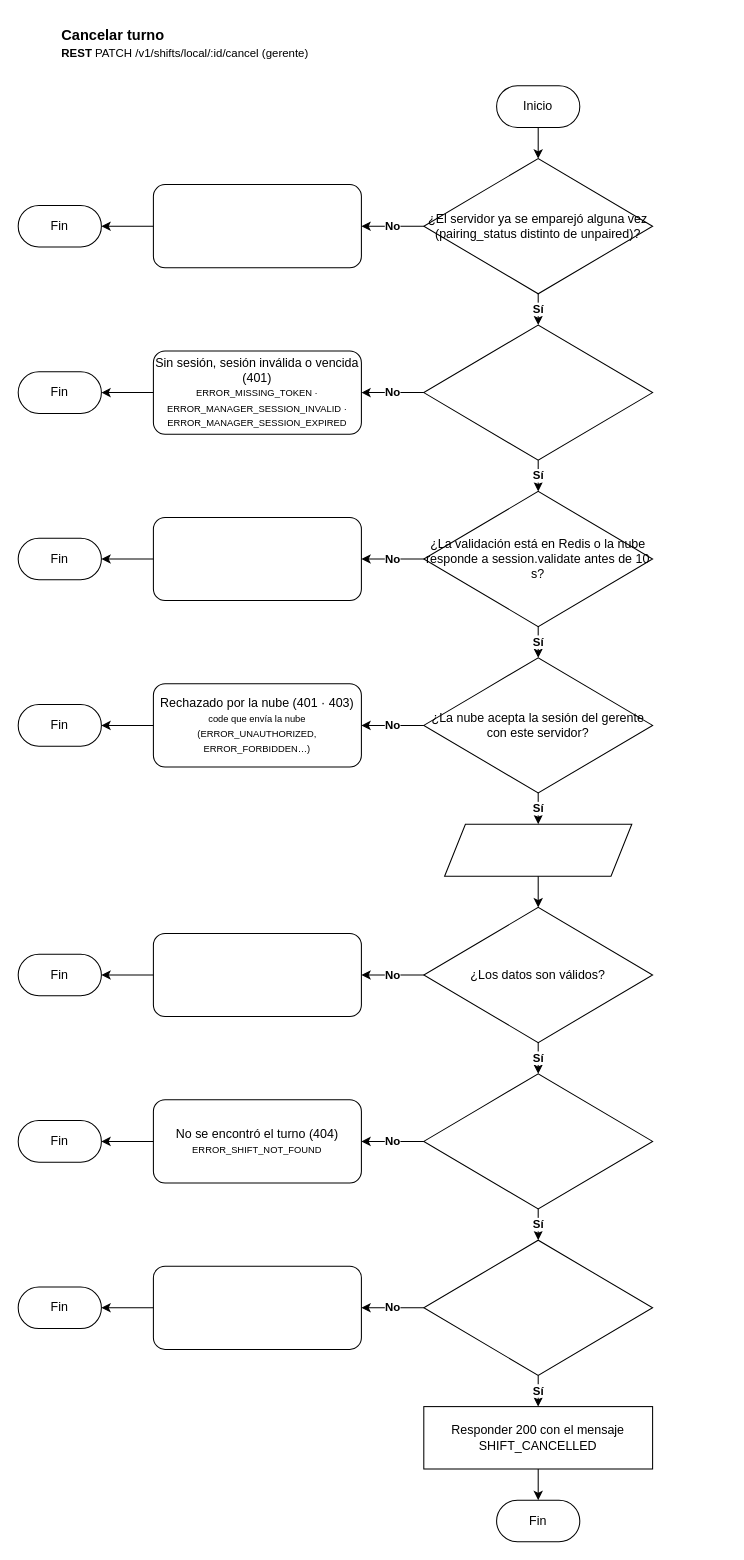
The diagram is 744 pixels wide and 1560 high, and some of its shapes have lost their labels. Here are the shapes that lost their labels. From the top down, the centre of each, then its label:
pixel 256 226: Servidor sin emparejar (409) ERROR_SERVER_NOT_PAIRED
pixel 538 392: ¿Trae una sesión de gerente válida (Bearer mss_..., sin 30 min de inactividad)?
pixel 256 558: La nube no responde (503) ERROR_CLOUD_UNAVAILABLE · ERROR_SERVER_UNLINKED
pixel 538 849: Recibir datos
pixel 256 974: Datos inválidos (400) ERROR_BAD_REQUEST
pixel 538 1141: ¿Existe el turno?
pixel 256 1307: El turno ya no se puede modificar (409) ERROR_SHIFT_NOT_EDITABLE
pixel 538 1307: ¿El turno sigue programado (editable)?
